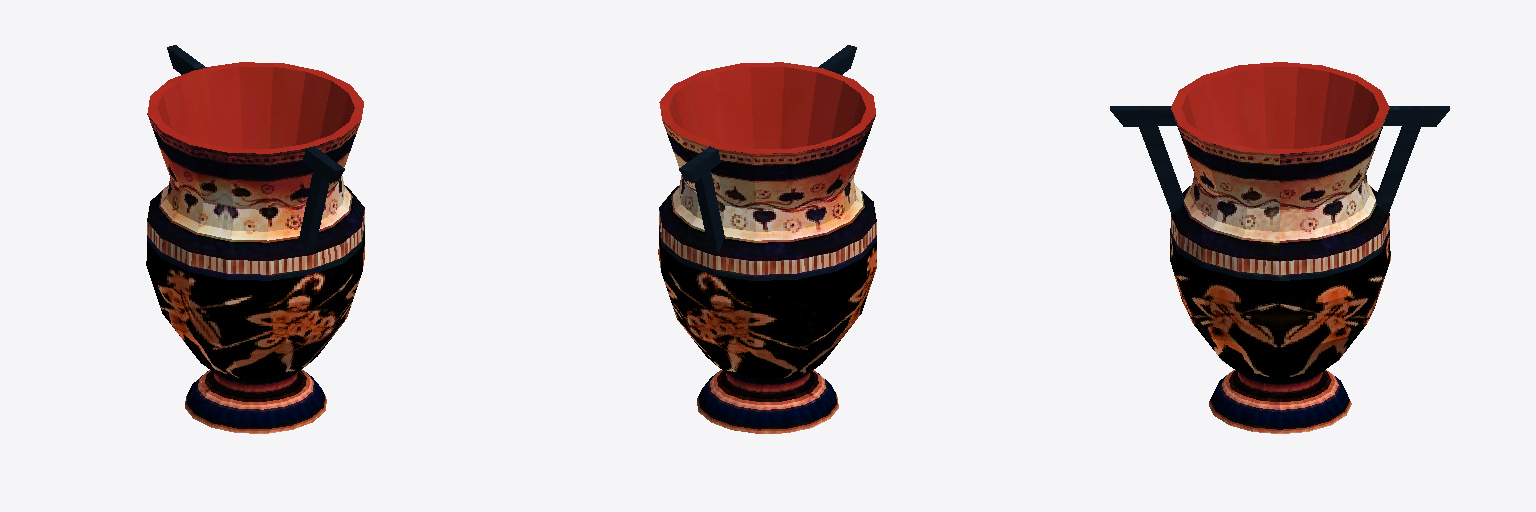
3 views of the same model, side by side, from view 1: azimuth 30°, elevation 25°; view 2: azimuth 150°, elevation 25°; view 3: azimuth 270°, elevation 25° (orthographic).
Parts seen in each view (by area): view 1: vase2; view 2: vase2; view 3: vase2.
Part boxes in pixels (x1,y1,x2,y2): vase2: (146, 45, 364, 433); vase2: (658, 45, 876, 433); vase2: (1110, 62, 1449, 433).
Bounding box in the file's own units: 72.9 × 108 × 112.
1 materials, 1 textured.